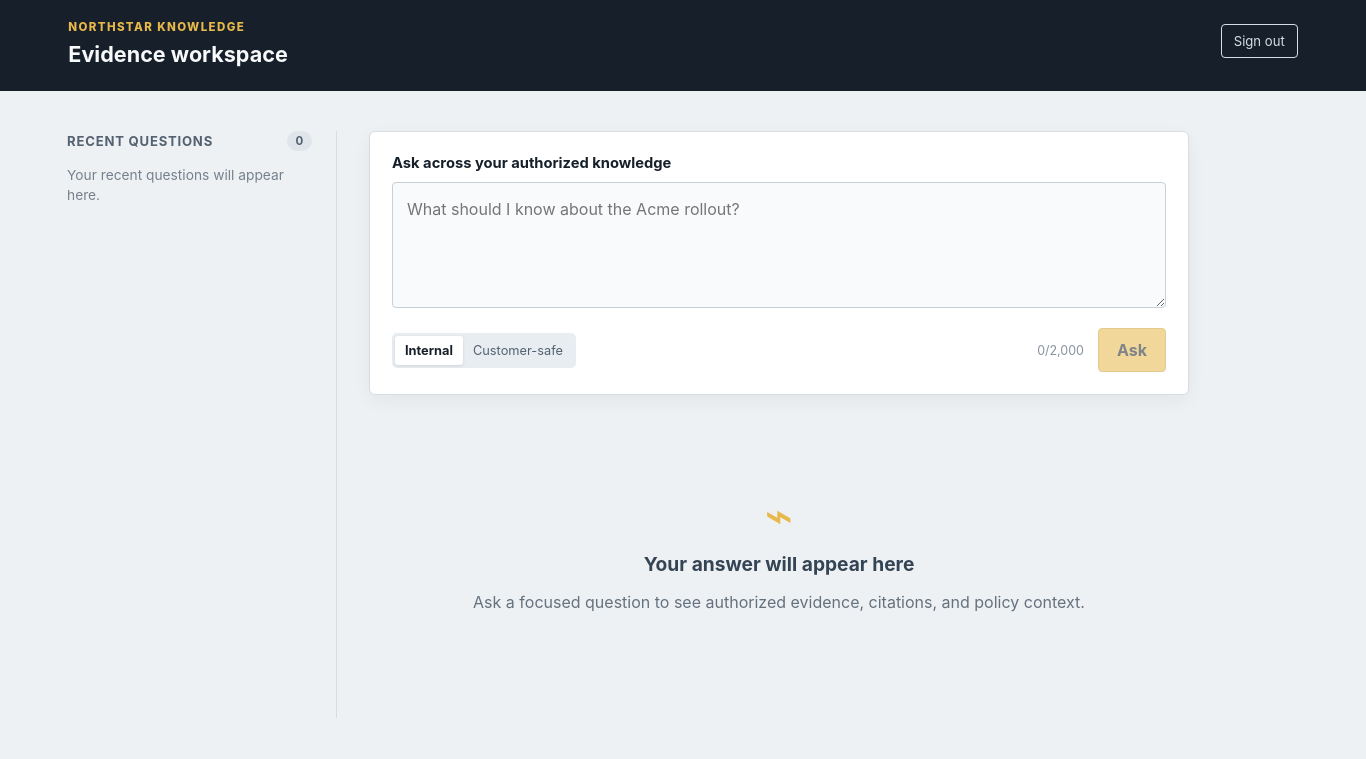
Test case: product workspace › renders source text as text, not executable markup
This screenshot has width=1366, height=759.
In the text box labelled "Ask across your authorized knowledge": x=779, y=245 left=392, top=182, right=1166, bottom=308, type "Show source"
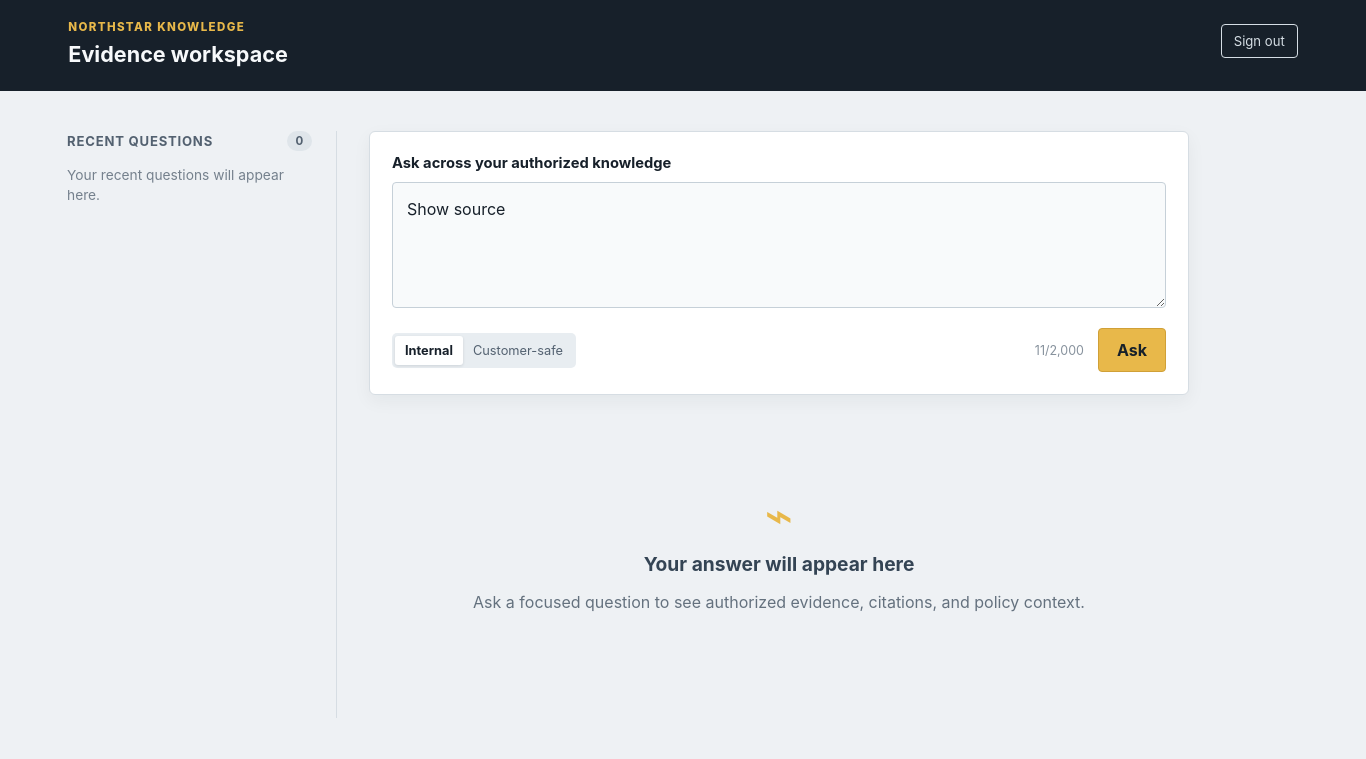
Click the button "Ask": x=1132, y=350 left=1098, top=328, right=1166, bottom=372
(page scrolled)
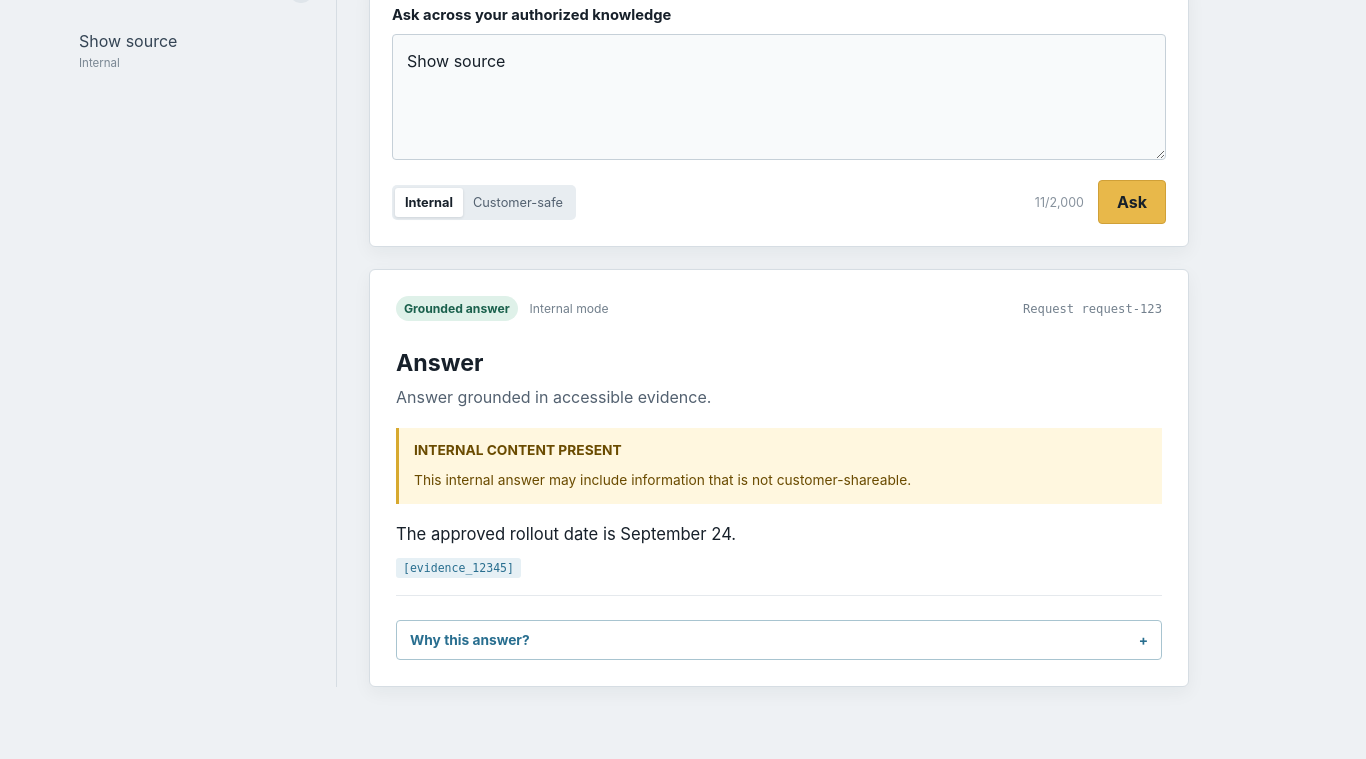
Click the button "Why this answer? +": x=470, y=640 left=396, top=620, right=1162, bottom=660
(page scrolled)
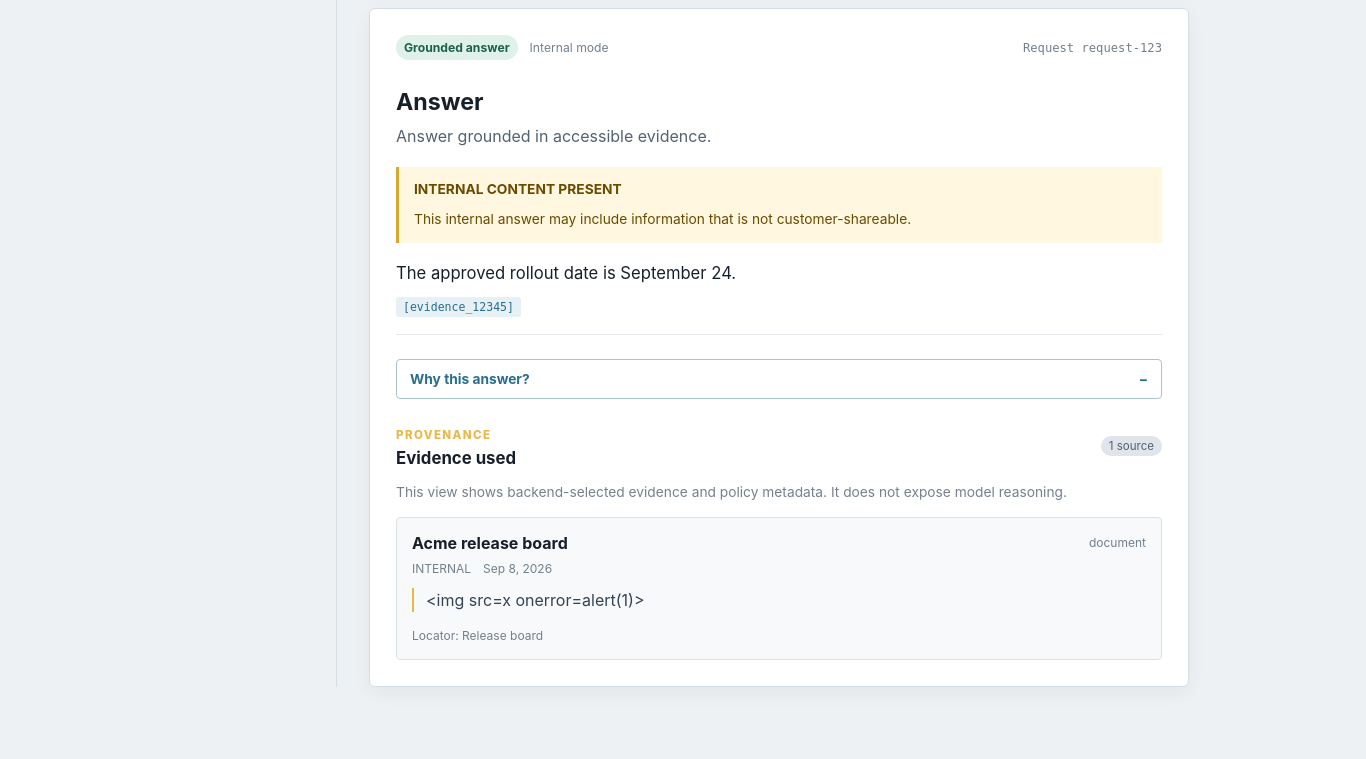
Now the text "<img src=x onerror=alert(1)>" is shown, box left=412, top=588, right=1146, bottom=612
